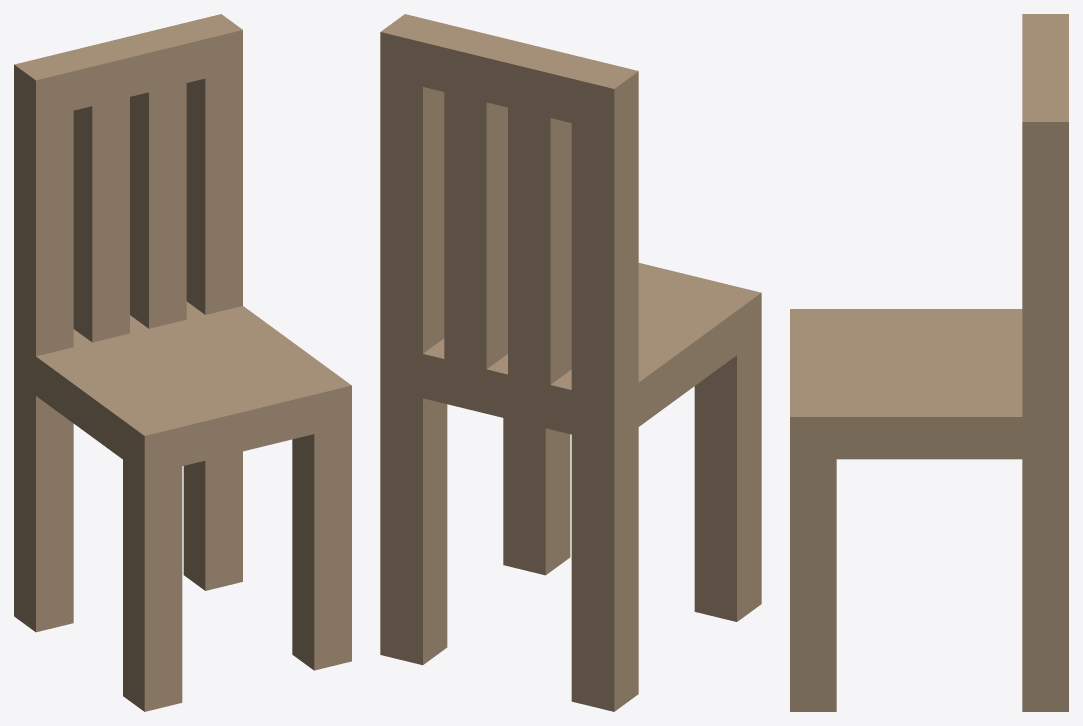
The model's file is wood_chair_1.glb.
The picture shows the model from 3 angles, left to right: view 1: azimuth 30°, elevation 25°; view 2: azimuth 150°, elevation 25°; view 3: azimuth 270°, elevation 25°; orthographic projection. The views are drawn at different scales.
Visible parts, largest first — view 1: Mesh_Mesh_head_geo.001_lambert2SG.001; view 2: Mesh_Mesh_head_geo.001_lambert2SG.001; view 3: Mesh_Mesh_head_geo.001_lambert2SG.001.
Boxes of the visible parts, x1,y1,x2,y2 form: Mesh_Mesh_head_geo.001_lambert2SG.001: (14,14,351,711); Mesh_Mesh_head_geo.001_lambert2SG.001: (380,14,761,711); Mesh_Mesh_head_geo.001_lambert2SG.001: (790,14,1068,711).
Bounding box in the file's own units: 5.5 × 14 × 6.
